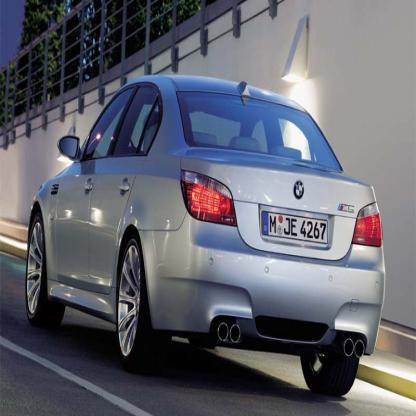Vehicle: (26, 76, 386, 402)
